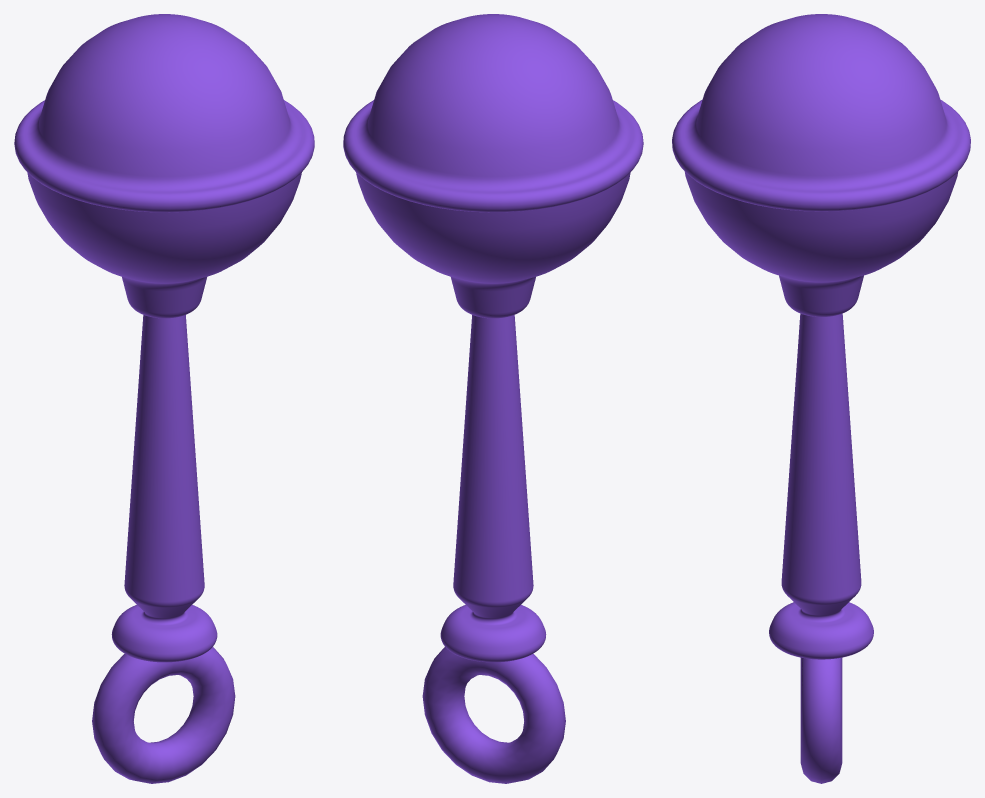
Rendered from rattle.obj.
The picture shows the model from 3 angles, left to right: view 1: azimuth 30°, elevation 25°; view 2: azimuth 150°, elevation 25°; view 3: azimuth 270°, elevation 25°; orthographic projection.
Parts seen in each view (by area): view 1: rattle; view 2: rattle; view 3: rattle.
Boxes of the visible parts, left/top/right/bottom form: rattle: left=14, top=14, right=314, bottom=783; rattle: left=343, top=14, right=643, bottom=783; rattle: left=672, top=14, right=970, bottom=783.
Bounding box in the file's own units: 137 × 379 × 137.
